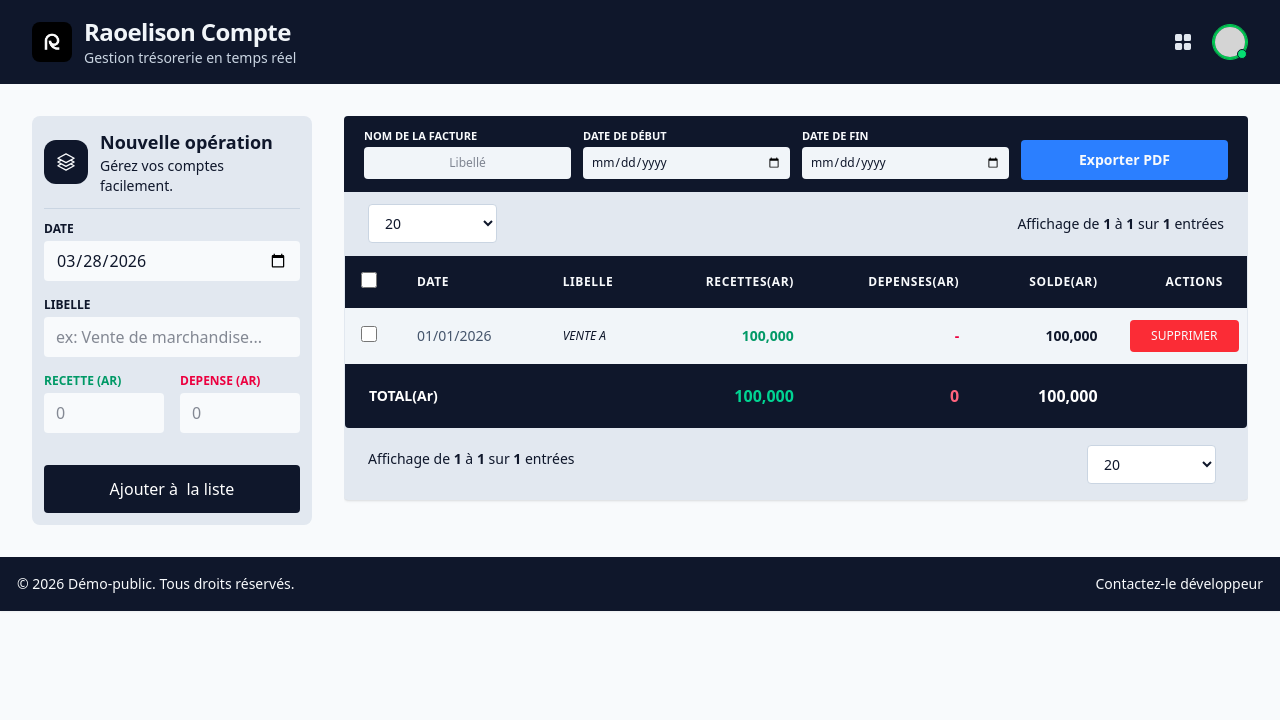
Scenario: App - Business and critical flows › opens and closes the delete confirmation modal without deleting on cancel
Expected: the text "Gestion trésorerie en temps réel" is shown, [84,48,296,68]
Expected: the text "VENTE A" is shown, [539,308,656,364]
Click the button "supprimer" at point(1184, 336), box [1130,320,1239,352]
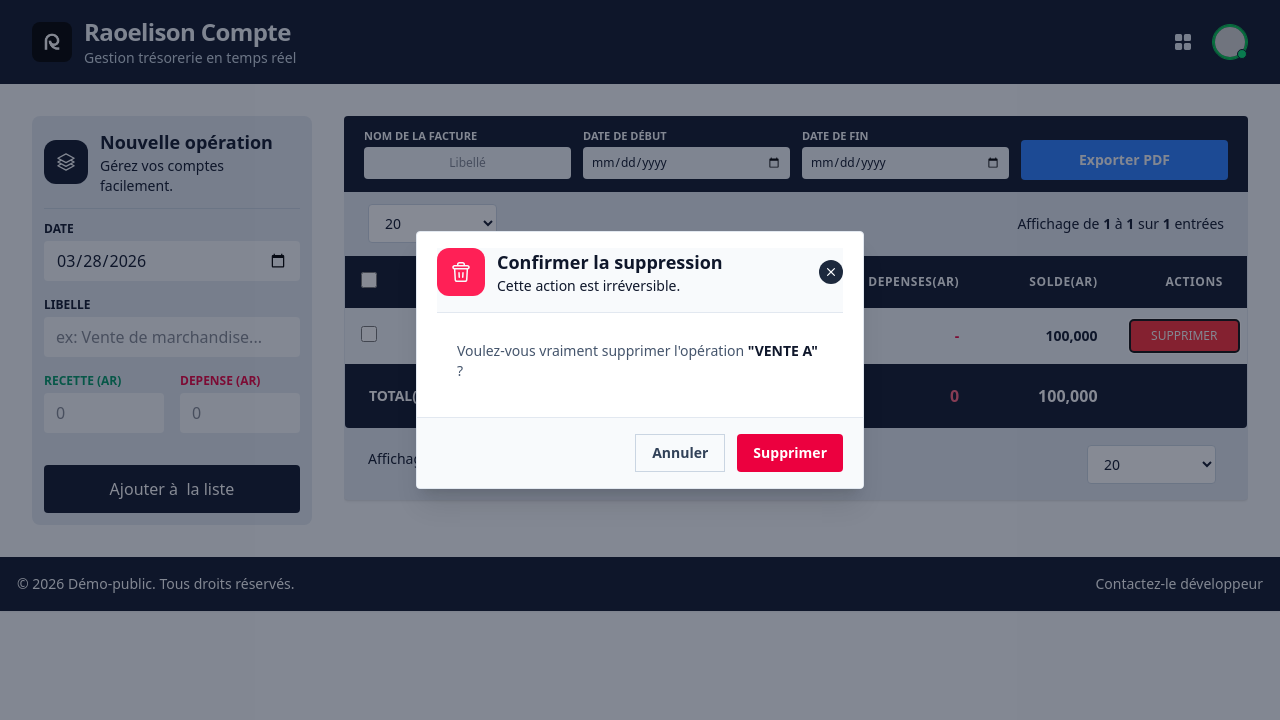
Expected: the heading "Confirmer la suppression" is shown, [497,248,723,276]
Click the button "Annuler" at point(680, 453), box [635,434,725,472]
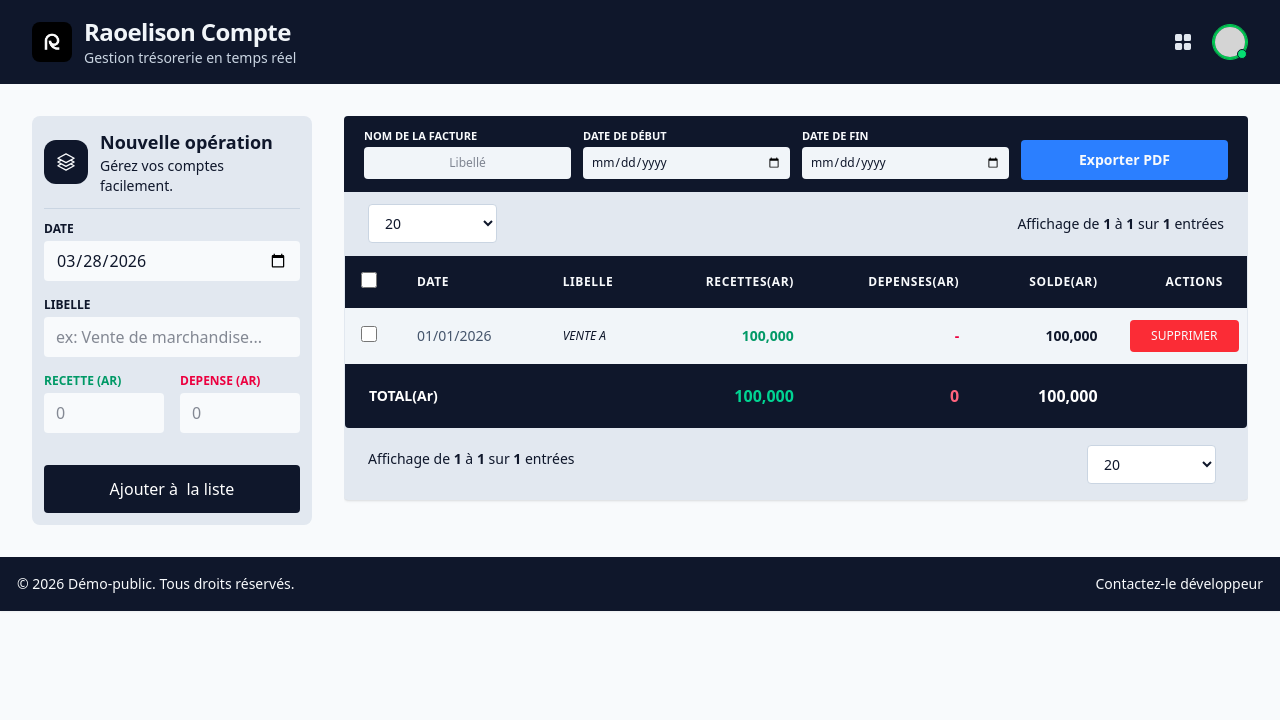
Expected: the heading "Confirmer la suppression" is gone
